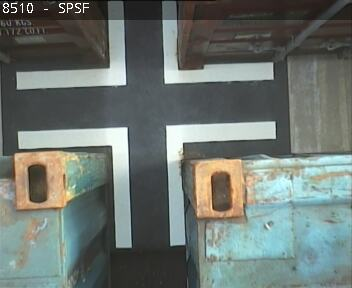groundmarker_1: (17, 118, 276, 246), (15, 1, 272, 91)
